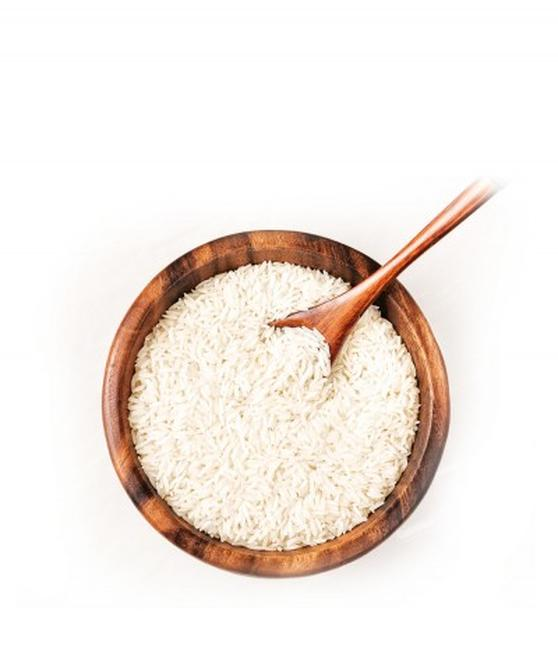rice: (160, 300, 356, 534)
